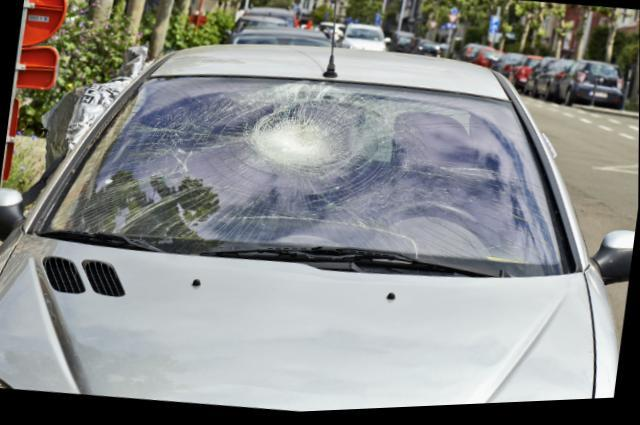glass shatter: (46, 76, 571, 283)
